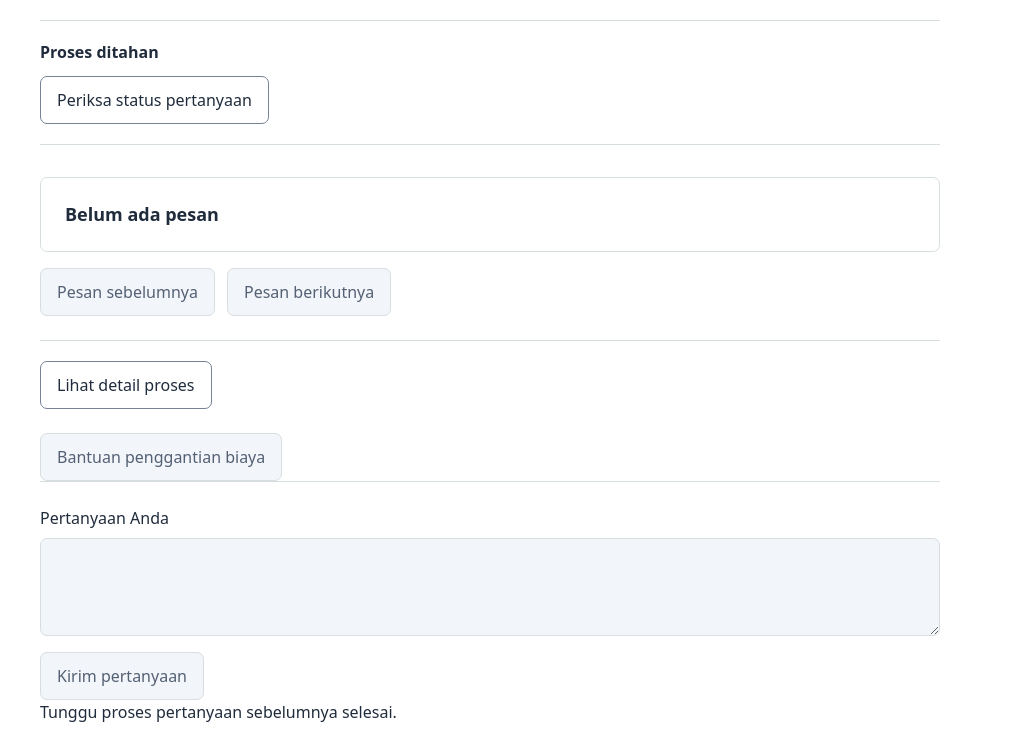
it: confirms a no-key CAS close and discovers server state before enabling send
(page scrolled)
Click the button "Lihat detail proses" at (126, 385), box [40, 361, 212, 409]
(page scrolled)
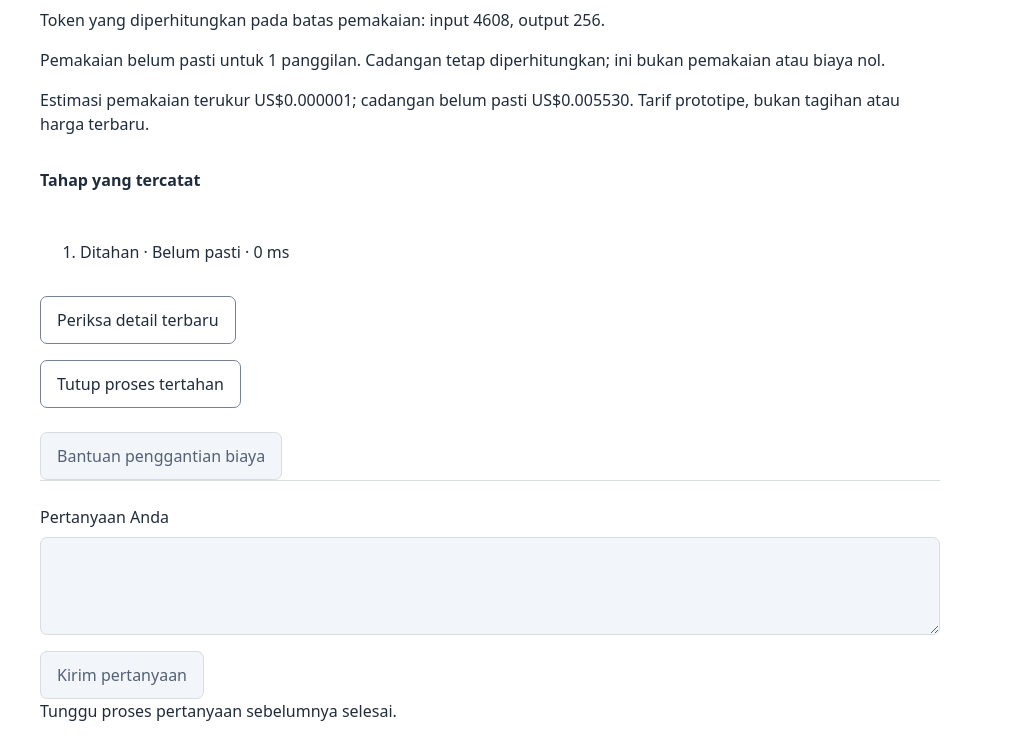
Check: the text "Pemakaian belum pasti untuk" is shown, box [40, 49, 268, 71]
Click the button "Tutup proses tertahan" at (140, 384), box [40, 360, 241, 408]
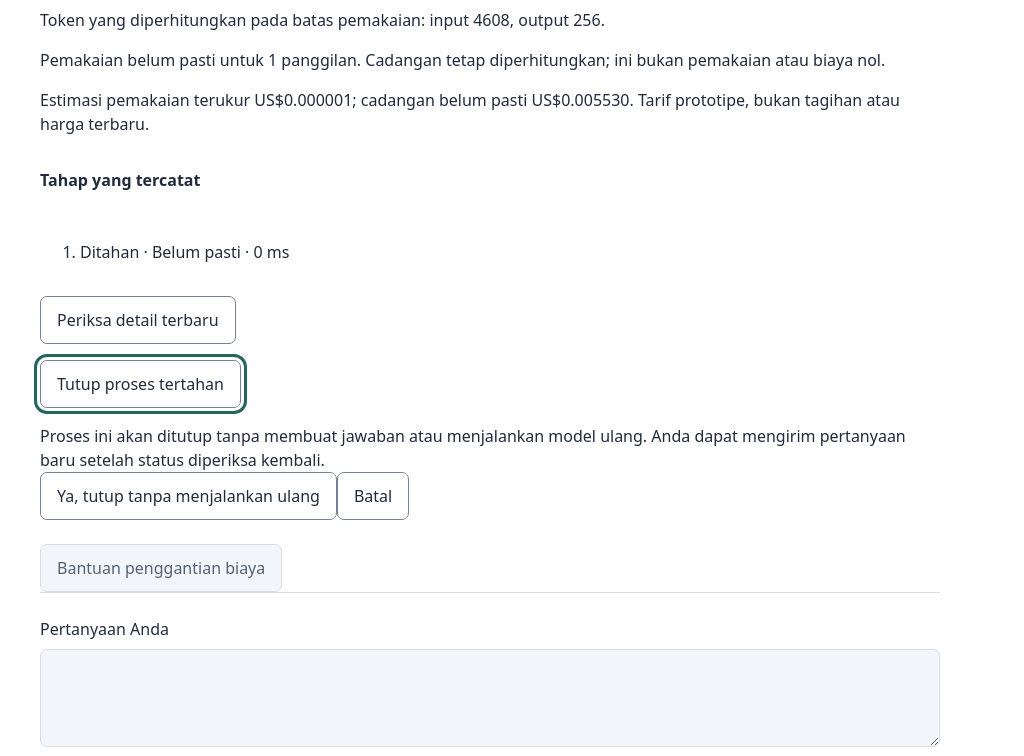
Click the button "Ya, tutup tanpa menjalankan ulang" at (188, 496), box [40, 472, 337, 520]
(page scrolled)
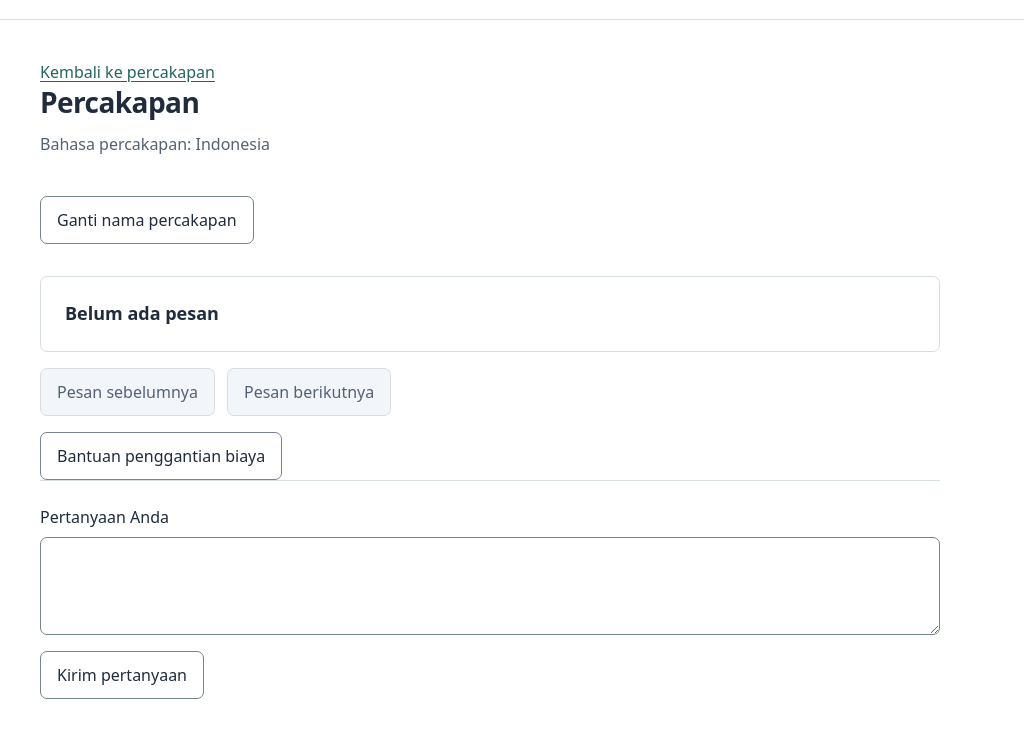
Check: the button "Kirim pertanyaan" is enabled, box [40, 651, 204, 699]
